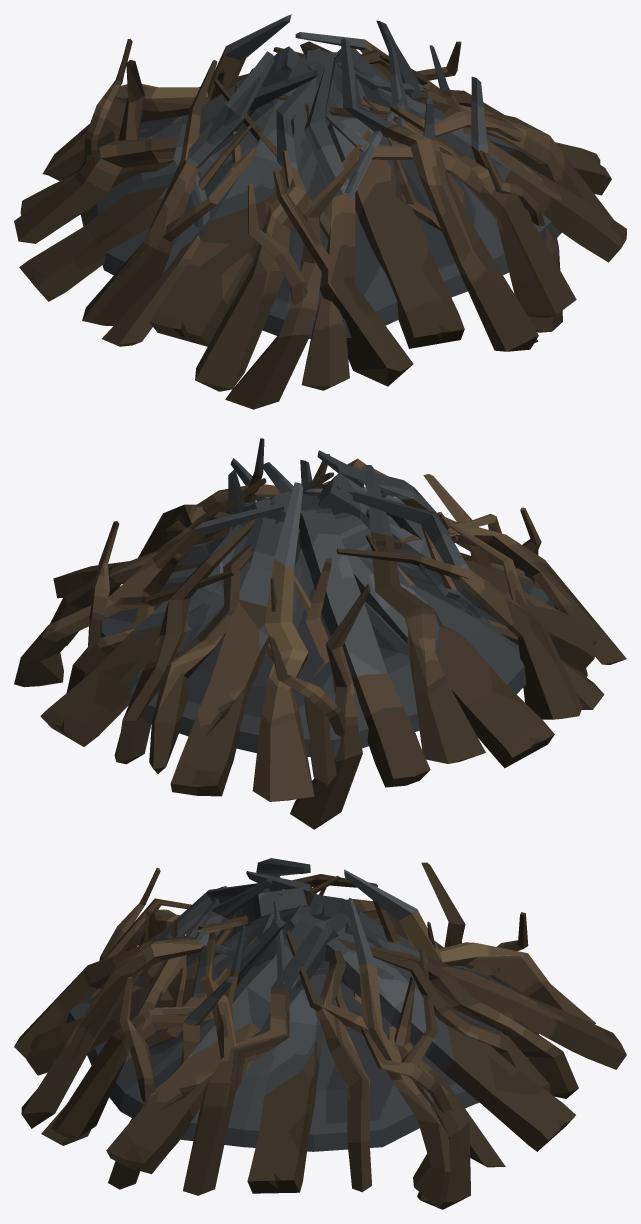
Rendered from dark_SM_Prop_Pyre_02_Burnt_01.gltf.
3 views of the same model, one above another, from view 1: azimuth 30°, elevation 25°; view 2: azimuth 150°, elevation 25°; view 3: azimuth 270°, elevation 25° (orthographic). The views are drawn at different scales.
Visible parts, largest first — view 1: SM_Prop_Pyre_02_Burnt_01; view 2: SM_Prop_Pyre_02_Burnt_01; view 3: SM_Prop_Pyre_02_Burnt_01.
Boxes of the visible parts, x1,y1,x2,y2 form: SM_Prop_Pyre_02_Burnt_01: [14, 14, 626, 409]; SM_Prop_Pyre_02_Burnt_01: [14, 438, 626, 829]; SM_Prop_Pyre_02_Burnt_01: [14, 858, 626, 1209].
Size of the model in its own units: 3.14 by 1.54 by 3.23.
Materials: 1 (1 with a texture image).
